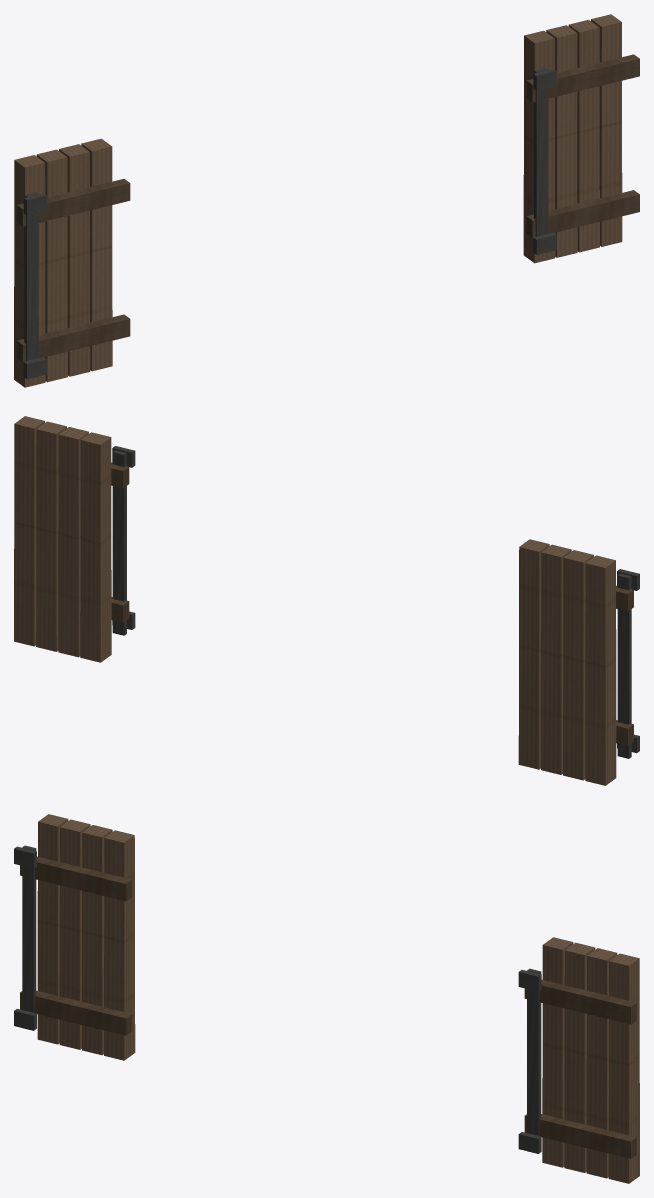
The model's file is part_shutters.glb.
The picture shows the model from 3 angles, top to bottom: view 1: azimuth 30°, elevation 25°; view 2: azimuth 150°, elevation 25°; view 3: azimuth 330°, elevation 25°; orthographic projection.
Parts seen in each view (by area): view 1: shutters; view 2: shutters; view 3: shutters.
Boxes of the visible parts, x1,y1,x2,y2 form: shutters: [14, 14, 639, 387]; shutters: [14, 416, 639, 785]; shutters: [14, 814, 639, 1183].
Size of the model in its own units: 2.76 by 0.94 by 0.1845.
Materials: 3 (3 with a texture image).
